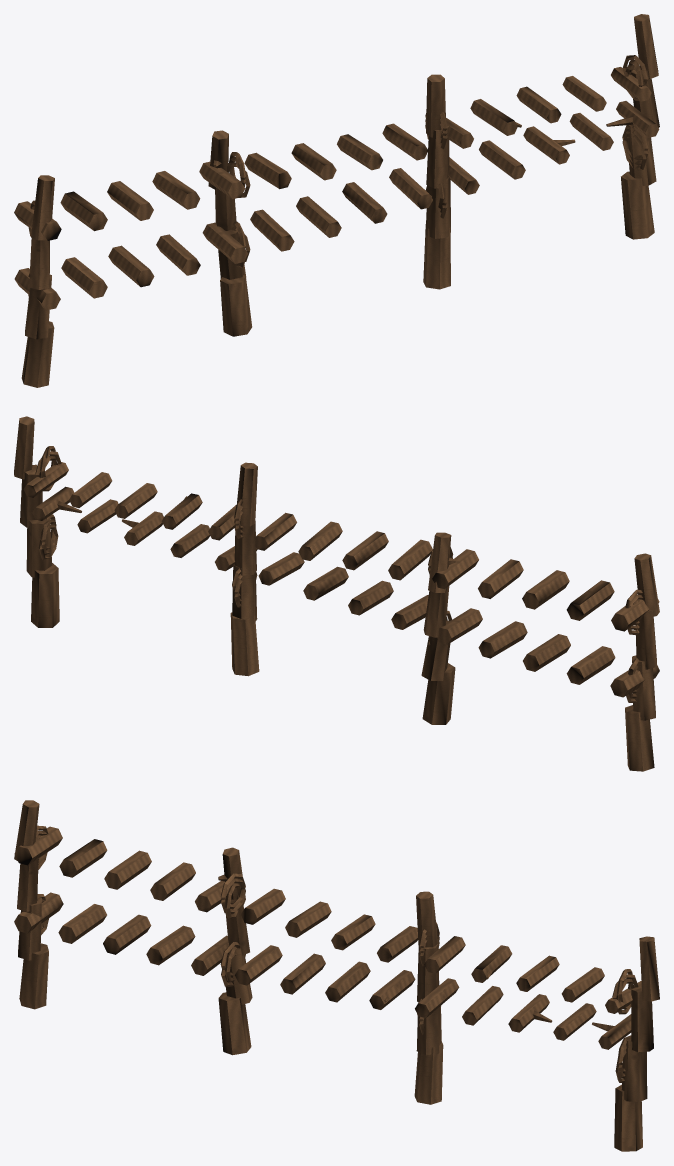
Rendered from rail.glb.
3 renders of one model, top to bottom at view 1: azimuth 30°, elevation 25°; view 2: azimuth 150°, elevation 25°; view 3: azimuth 330°, elevation 25°, orthographic.
Visible parts, largest first — view 1: rail; view 2: rail; view 3: rail.
Boxes of the visible parts, box(x1,y1,x2,y2) form: rail: box(14, 14, 659, 387); rail: box(14, 416, 659, 771); rail: box(14, 800, 659, 1151).
Bounding box in the file's own units: 4.3 × 1.34 × 0.4755.
Materials: 1 (1 with a texture image).
